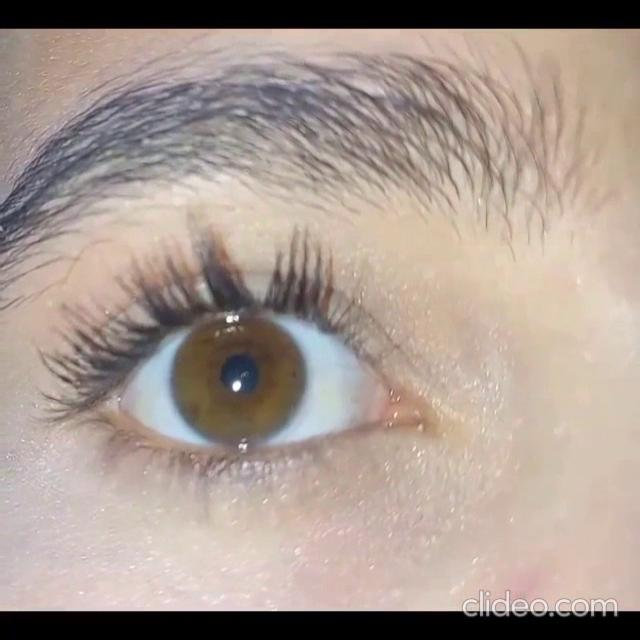iris: (172, 314, 306, 445)
pupille: (221, 355, 258, 394)
